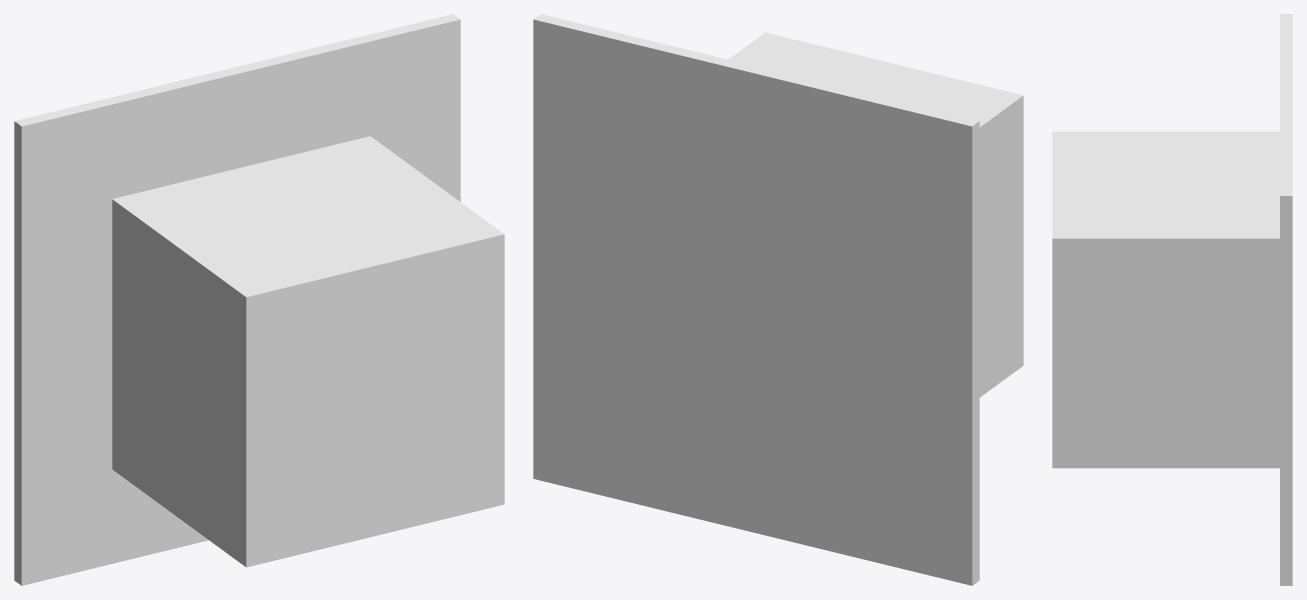
File: hat_tophat.glb
3 views of the same model, side by side, from view 1: azimuth 30°, elevation 25°; view 2: azimuth 150°, elevation 25°; view 3: azimuth 270°, elevation 25° (orthographic). The views are drawn at different scales.
Parts seen in each view (by area): view 1: hat_tophat; view 2: hat_tophat; view 3: hat_tophat.
Part boxes in pixels (x1,y1,x2,y2): hat_tophat: [14, 14, 504, 585]; hat_tophat: [533, 14, 1023, 585]; hat_tophat: [1052, 14, 1292, 585].
Bounding box in the file's own units: 0.68 × 0.68 × 0.38.
1 material, 1 textured.
